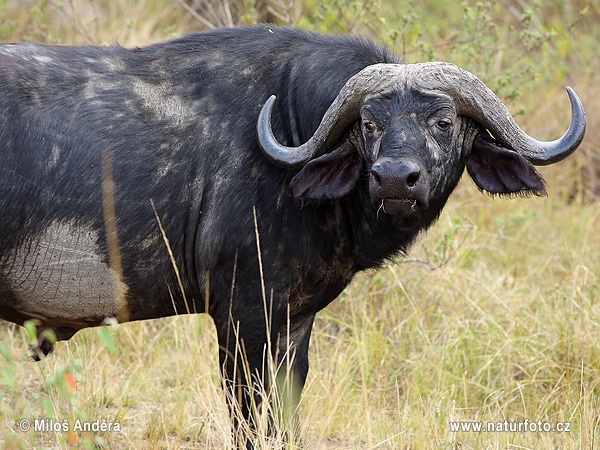buffalo: (1, 22, 586, 418)
